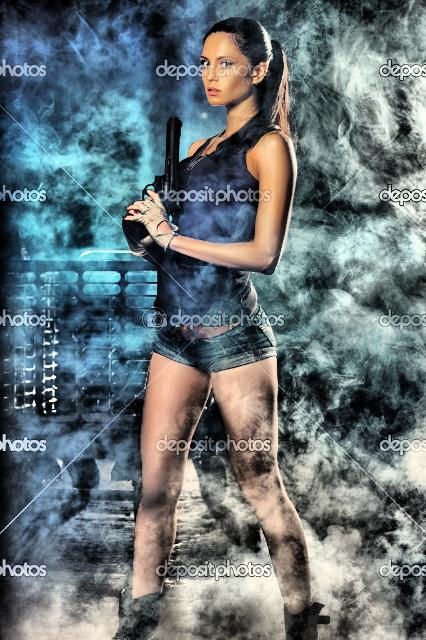pistol: (111, 105, 191, 258)
